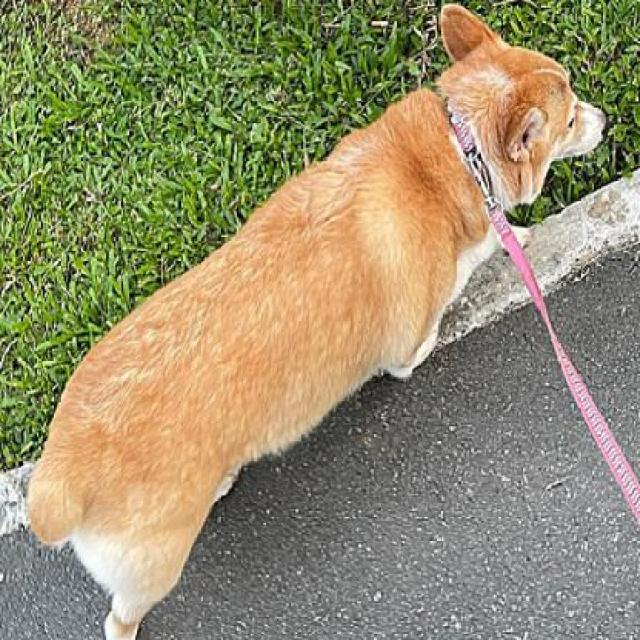Dog: (26, 0, 607, 638)
